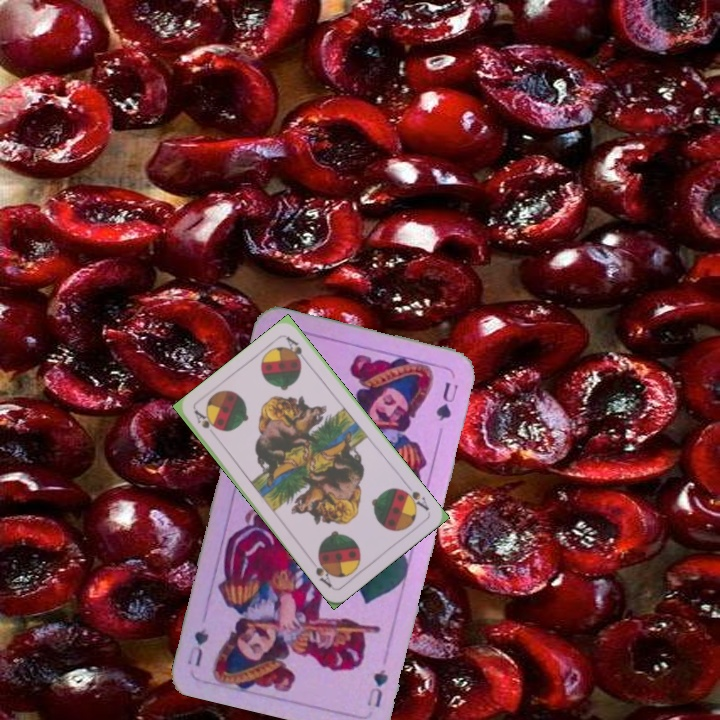GU: (362, 665, 391, 710)
SA: (397, 480, 432, 513), (190, 406, 219, 432)
